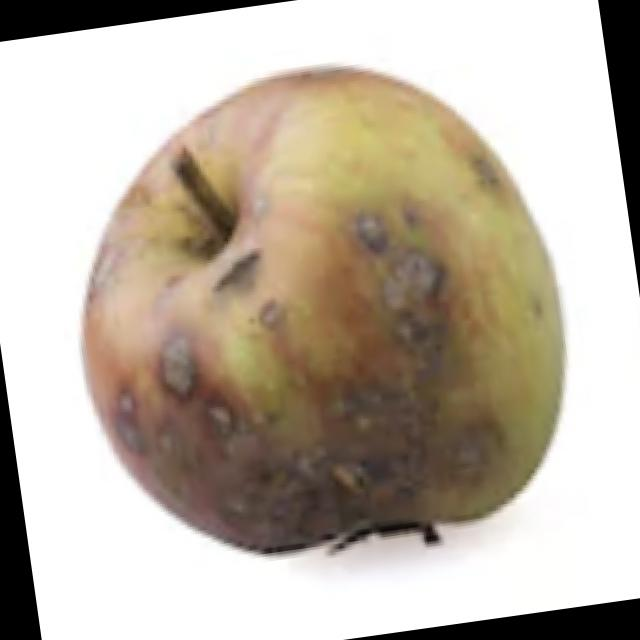rotten_apple: (47, 27, 588, 585)
